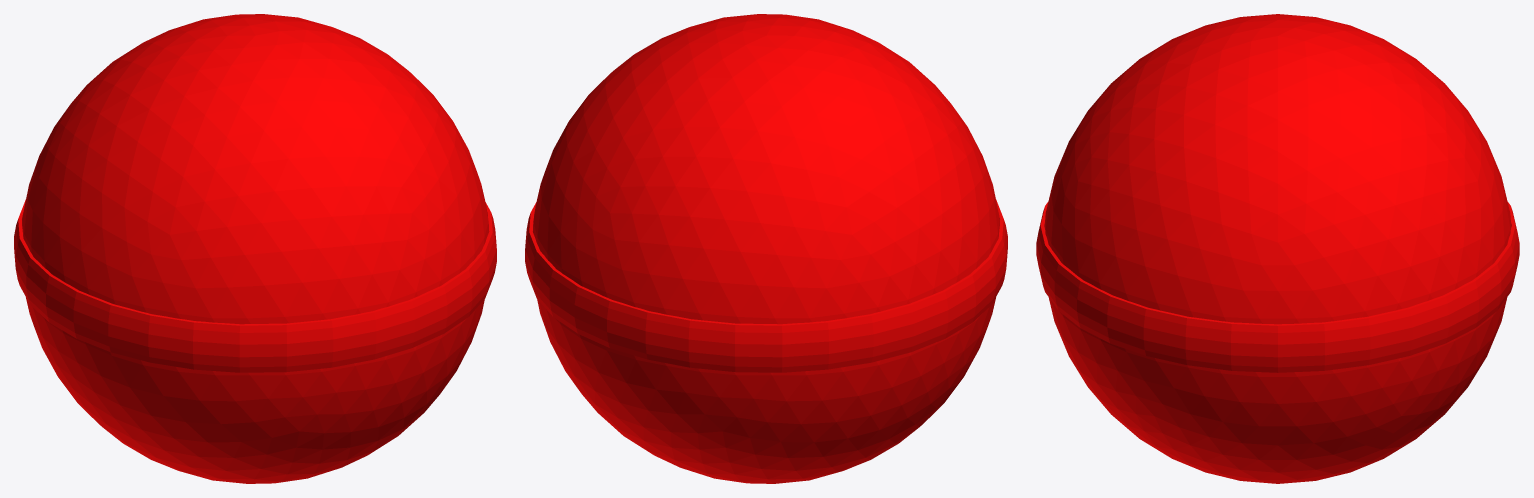
Rendered from ball.obj.
3 views of the same model, side by side, from view 1: azimuth 30°, elevation 25°; view 2: azimuth 150°, elevation 25°; view 3: azimuth 270°, elevation 25° (orthographic).
Visible parts, largest first — view 1: Icosphere; view 2: Icosphere; view 3: Icosphere.
Boxes of the visible parts, x1,y1,x2,y2 form: Icosphere: (14,14,496,483); Icosphere: (525,14,1007,483); Icosphere: (1036,14,1519,483).
Bounding box in the file's own units: 2.06 × 2 × 2.06.
